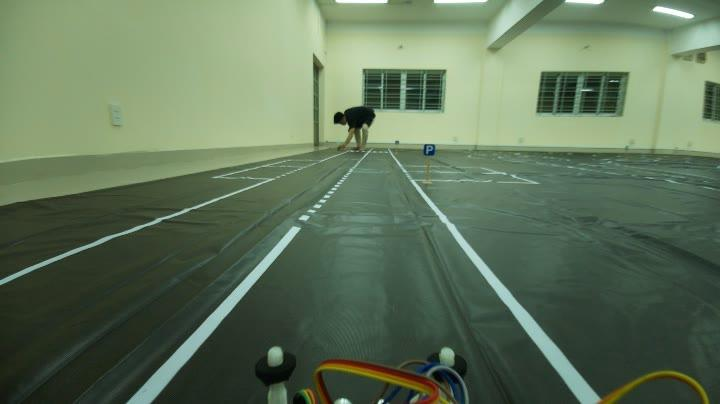parking: (418, 136, 438, 158)
